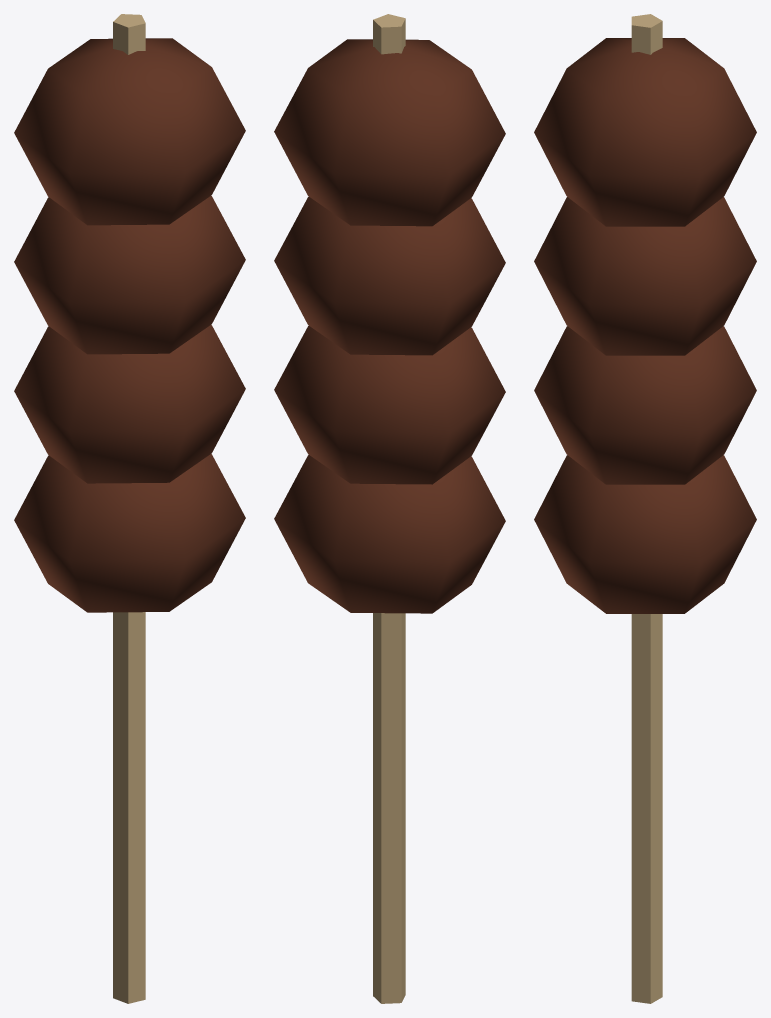
File: item_gyukushi.glb
3 views of the same model, side by side, from view 1: azimuth 30°, elevation 25°; view 2: azimuth 150°, elevation 25°; view 3: azimuth 270°, elevation 25° (orthographic).
Visible parts, largest first — view 1: item_gyukushi; view 2: item_gyukushi; view 3: item_gyukushi.
Boxes of the visible parts, x1,y1,x2,y2 form: item_gyukushi: (14, 14, 245, 1003); item_gyukushi: (274, 14, 505, 1003); item_gyukushi: (534, 14, 756, 1003).
Size of the model in its own units: 0.0589 by 0.312 by 0.0646.
